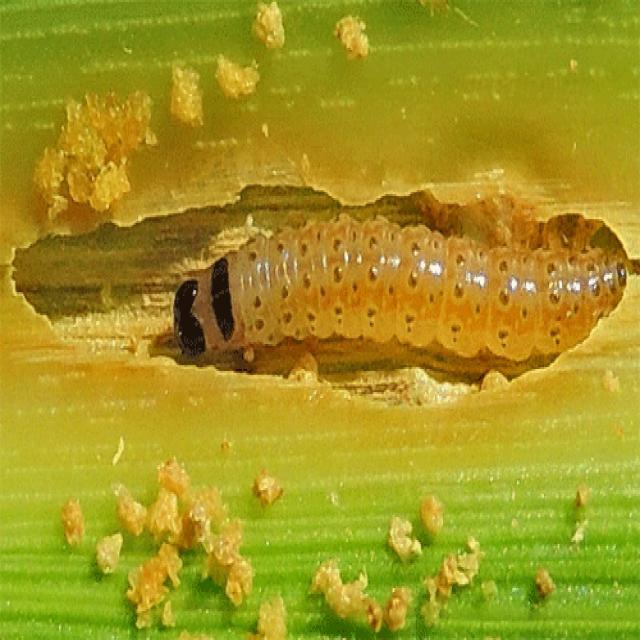cornborer-Larva-: (142, 170, 631, 412)
